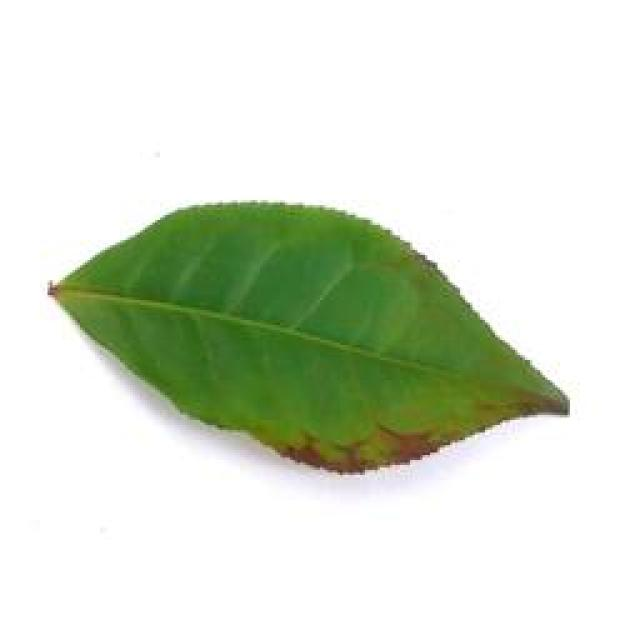Red Leaf Spot: (35, 197, 592, 478)
